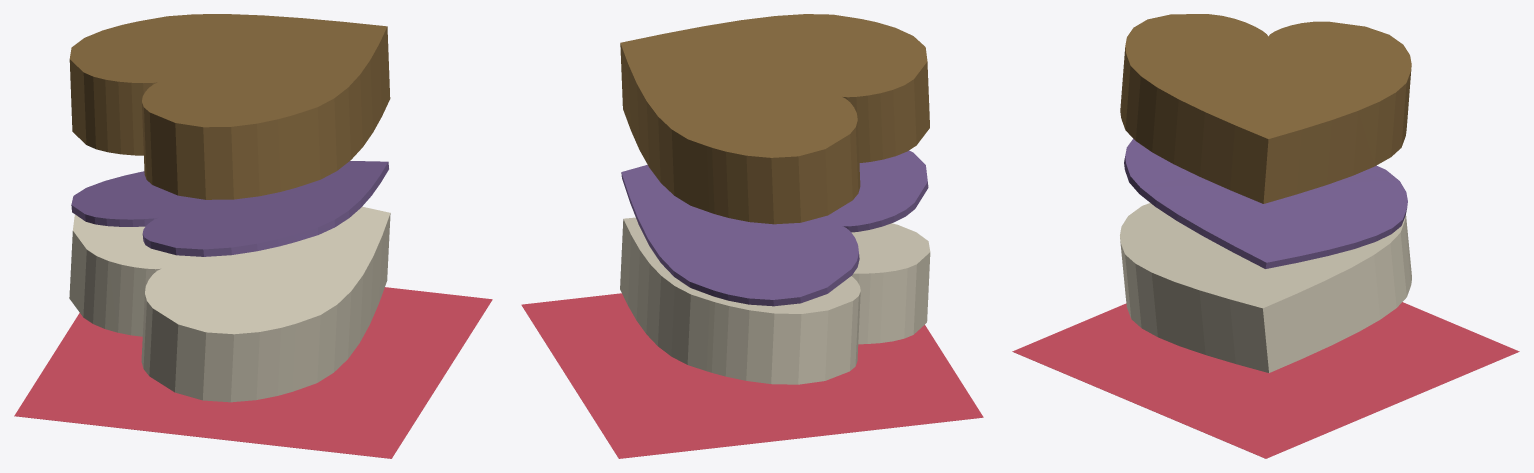
File: VUC.glb
The picture shows the model from 3 angles, left to right: view 1: azimuth 30°, elevation 25°; view 2: azimuth 150°, elevation 25°; view 3: azimuth 270°, elevation 25°; orthographic projection. The views are drawn at different scales.
Visible parts, largest first — view 1: Mesh_Mesh_head_geo.001_lambert2SG.001; view 2: Mesh_Mesh_head_geo.001_lambert2SG.001; view 3: Mesh_Mesh_head_geo.001_lambert2SG.001.
Boxes of the visible parts, x1=… form: Mesh_Mesh_head_geo.001_lambert2SG.001: x1=14, y1=14, x2=492, y2=458; Mesh_Mesh_head_geo.001_lambert2SG.001: x1=521, y1=14, x2=983, y2=458; Mesh_Mesh_head_geo.001_lambert2SG.001: x1=1012, y1=14, x2=1519, y2=458.
Bounding box in the file's own units: 0.0354 × 0.0217 × 0.0354.
